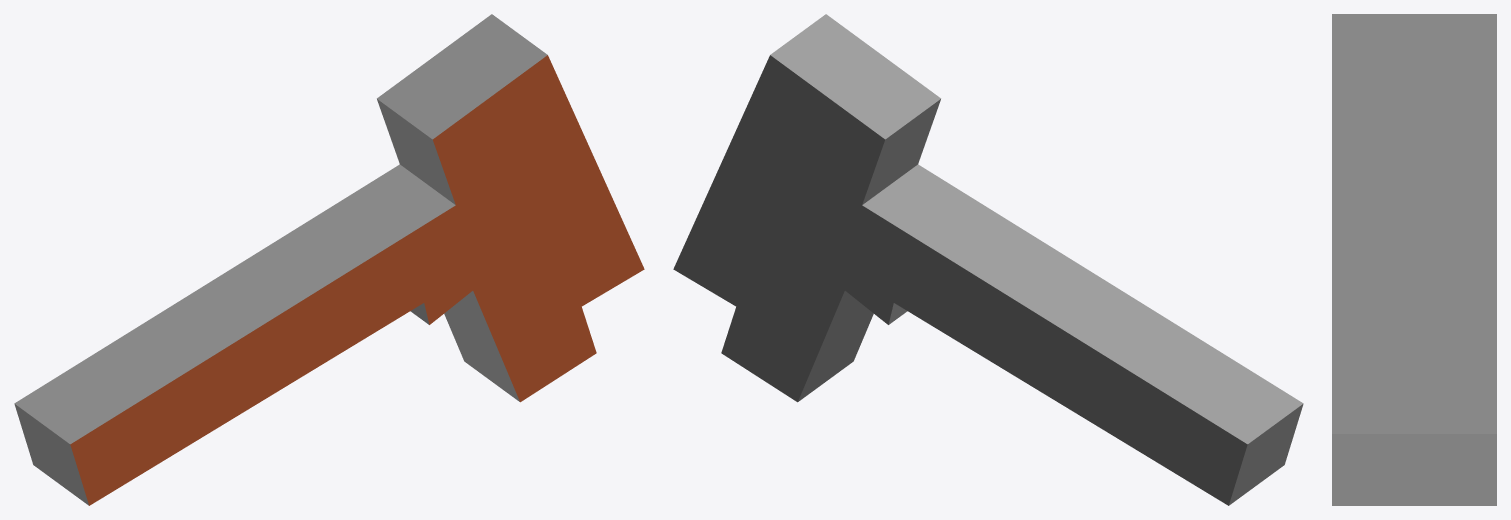
Rendered from construction_2380_assumed_A_Casa_h6m.obj.
3 views of the same model, side by side, from view 1: azimuth 30°, elevation 25°; view 2: azimuth 150°, elevation 25°; view 3: azimuth 270°, elevation 25° (orthographic). The views are drawn at different scales.
Visible parts, largest first — view 1: construction_2380_assumed_A_Casa; view 2: construction_2380_assumed_A_Casa; view 3: construction_2380_assumed_A_Casa.
Boxes of the visible parts, bbox=[...] form: construction_2380_assumed_A_Casa: bbox=[14, 14, 644, 505]; construction_2380_assumed_A_Casa: bbox=[673, 14, 1303, 505]; construction_2380_assumed_A_Casa: bbox=[1332, 14, 1496, 505].
Size of the model in its own units: 35.54 by 20.15 by 6.
